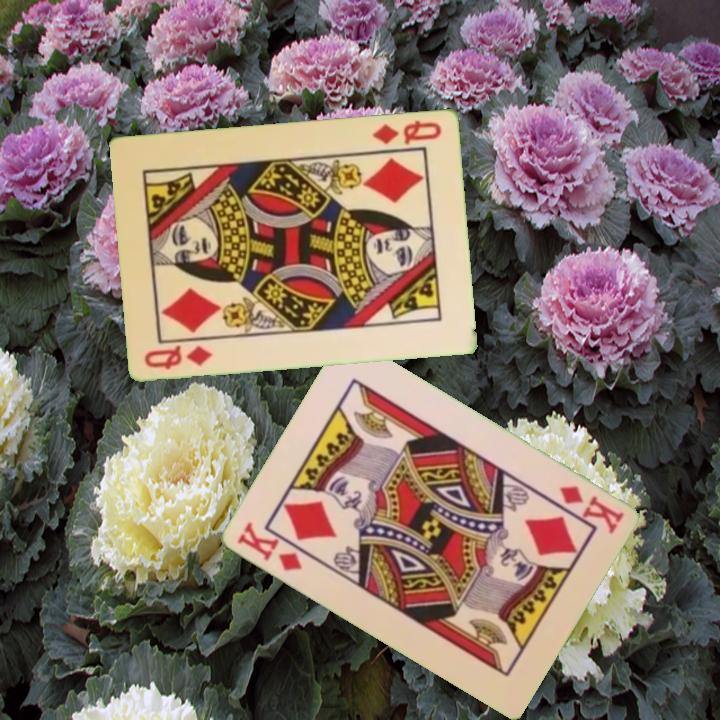Kd: (233, 518, 305, 574), (555, 482, 627, 536)
Qd: (369, 116, 445, 147), (141, 341, 216, 372)
